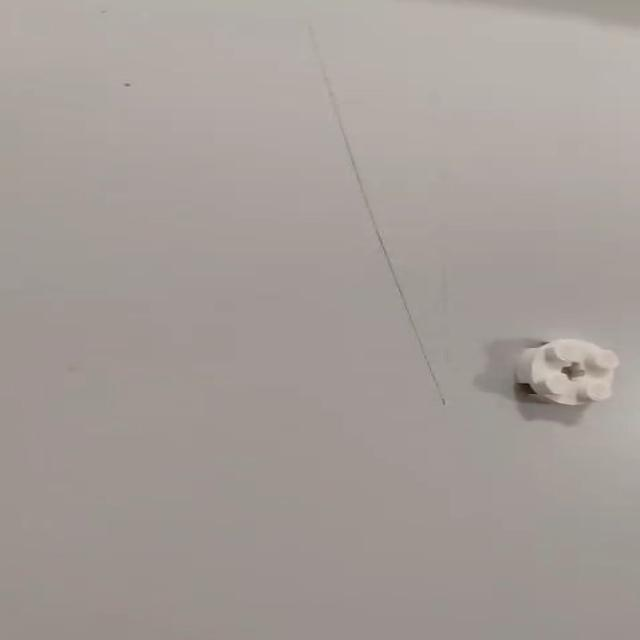S2x2x0: (512, 336, 618, 406)
